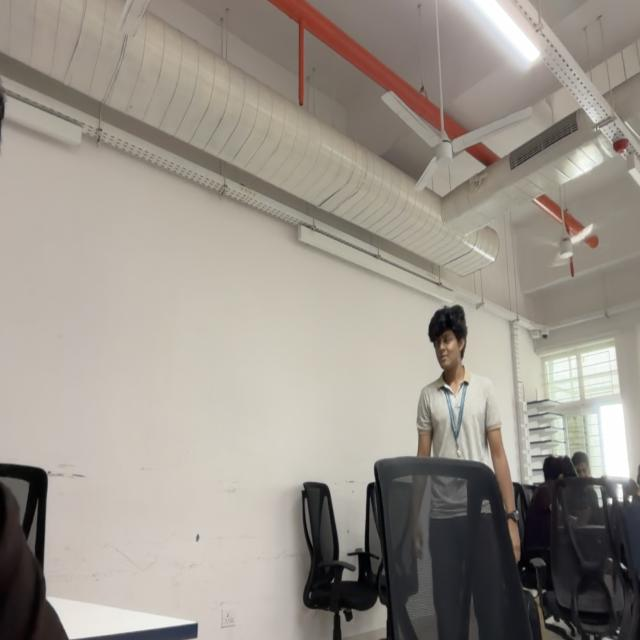kshitij: (427, 305, 466, 370)
